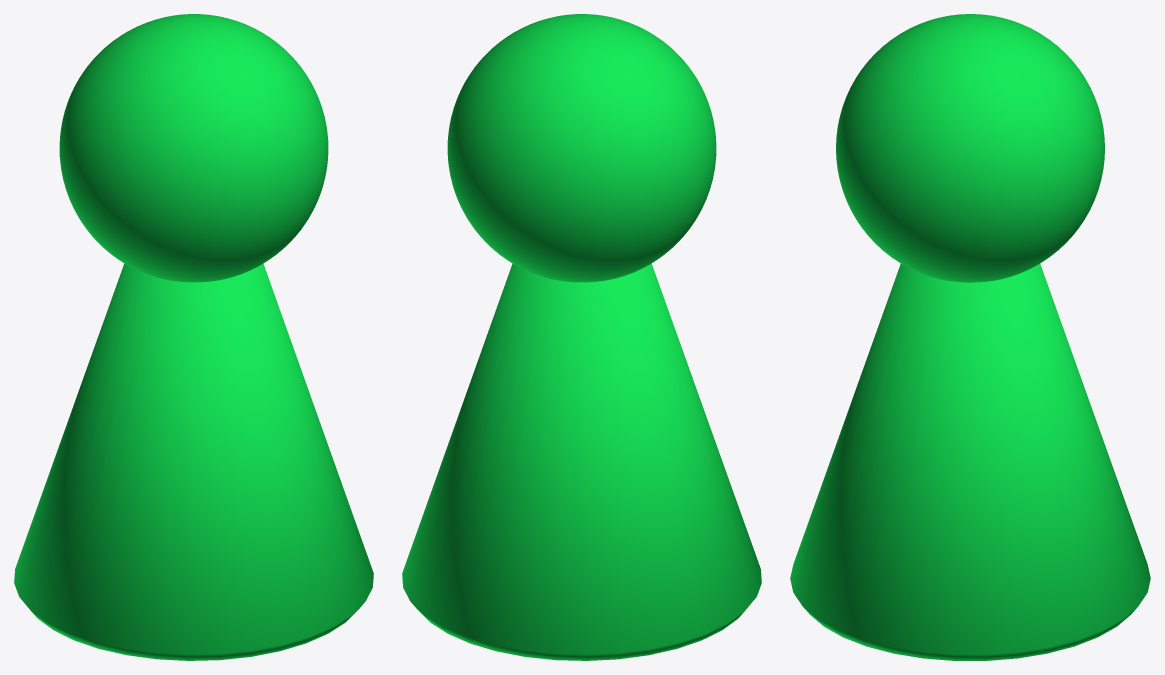
File: Green_shape.gltf
The picture shows the model from 3 angles, left to right: view 1: azimuth 30°, elevation 25°; view 2: azimuth 150°, elevation 25°; view 3: azimuth 270°, elevation 25°; orthographic projection.
Parts seen in each view (by area): view 1: Зелёная_фигурка; view 2: Зелёная_фигурка; view 3: Зелёная_фигурка.
Part boxes in pixels (<box>): Зелёная_фигурка: <box>14,14,373,660</box>; Зелёная_фигурка: <box>402,14,761,660</box>; Зелёная_фигурка: <box>790,14,1150,660</box>.
Bounding box in the file's own units: 2.46 × 4.3 × 2.47.
